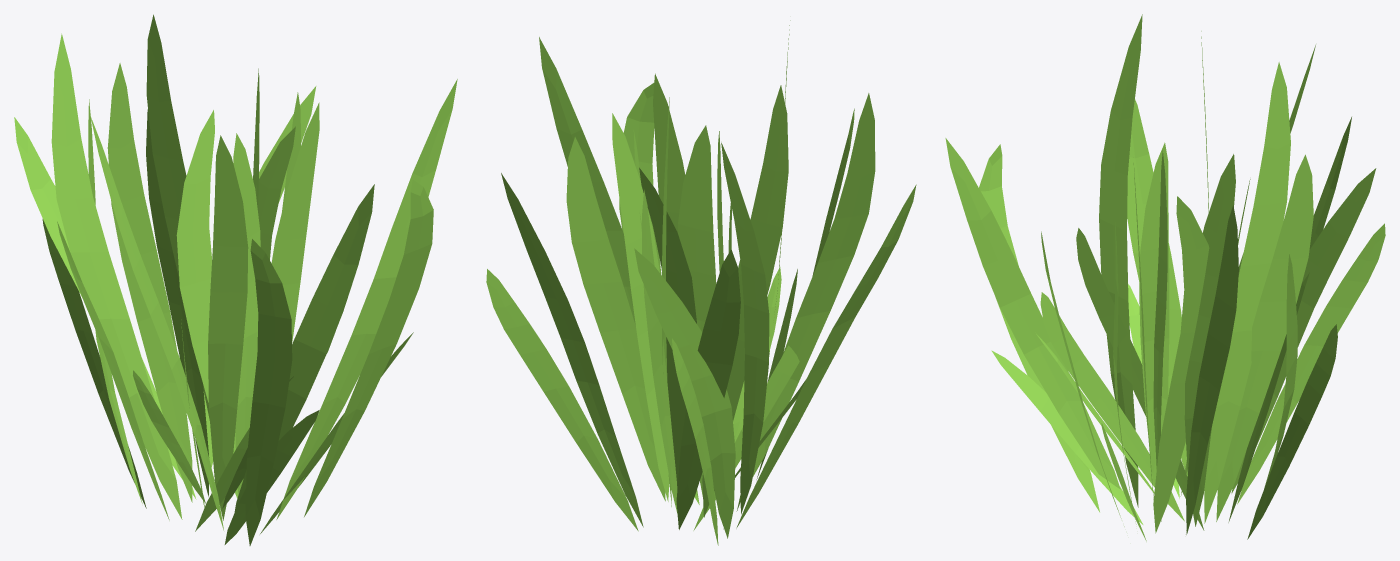
Rendered from grass.fbx.
3 renders of one model, left to right at view 1: azimuth 30°, elevation 25°; view 2: azimuth 150°, elevation 25°; view 3: azimuth 270°, elevation 25°, orthographic. The views are drawn at different scales.
Visible parts, largest first — view 1: Plane.011; view 2: Plane.011; view 3: Plane.011.
Part boxes in pixels (x1,y1,x2,y2): Plane.011: [14, 14, 457, 545]; Plane.011: [486, 20, 916, 545]; Plane.011: [945, 14, 1385, 541].
Size of the model in its own units: 122 by 142 by 122.
